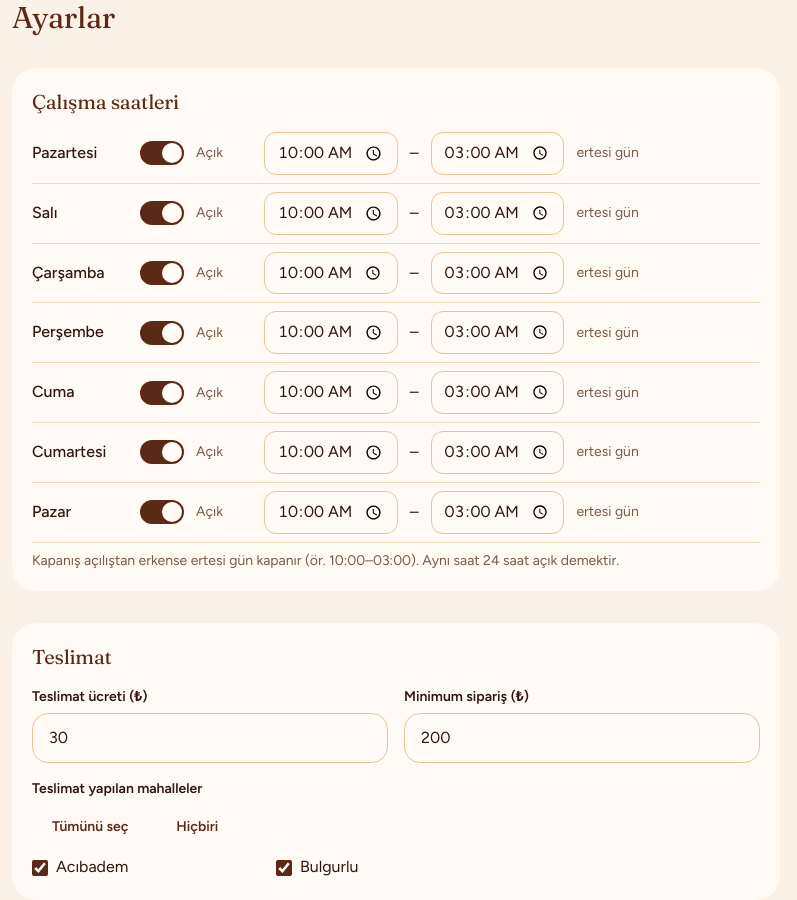
Scenario: AdminSettingsPage › saves hours and the delivery fee
This screenshot has width=797, height=900.
Click the switch named "Pazartesi açık". click: (162, 153)
box: top-left (140, 141), bottom-right (184, 165)
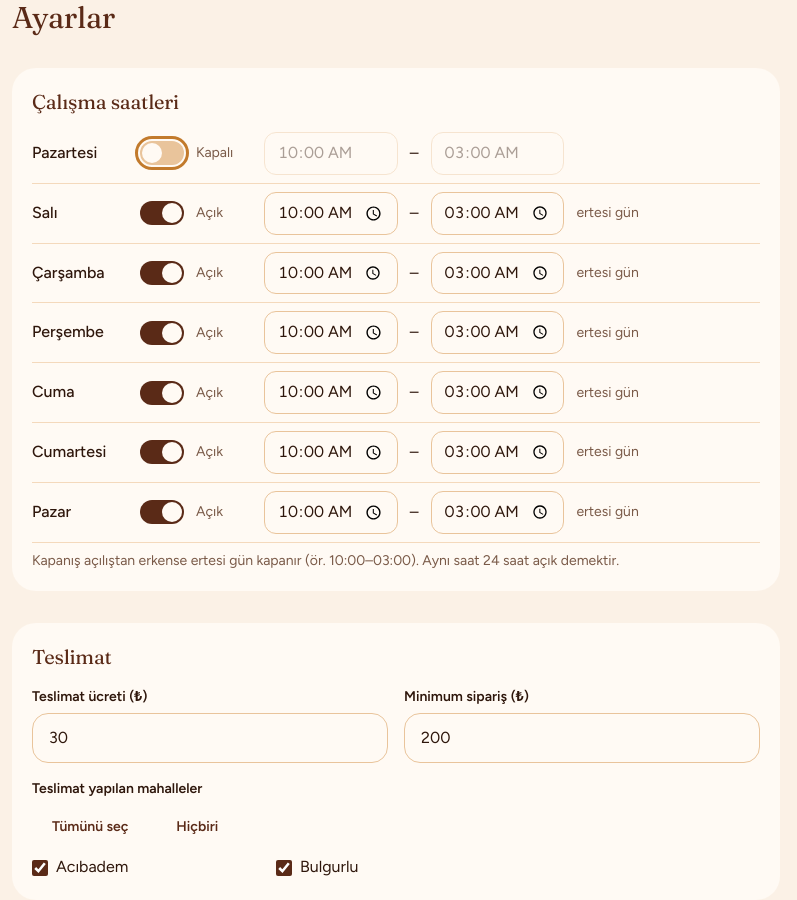
Replace the text in the field labelled "Teslimat ücreti (₺)" with "40". click: (210, 738)
box: top-left (32, 713), bottom-right (388, 763)
(page scrolled)
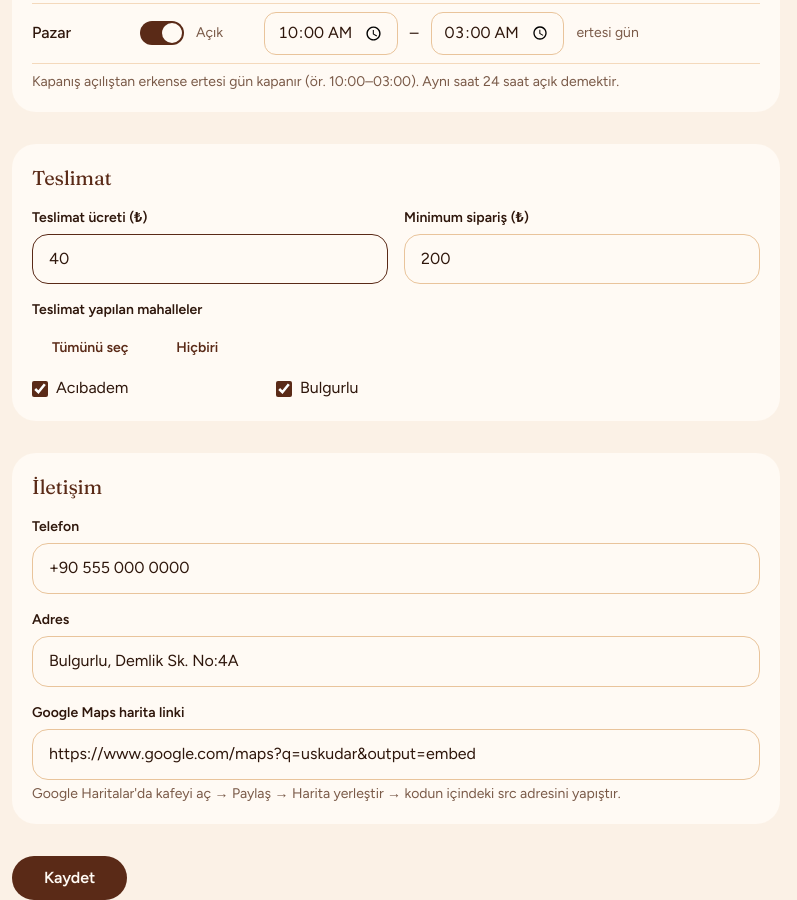
Click the button "Kaydet". click: (70, 878)
box: top-left (12, 856), bottom-right (127, 899)
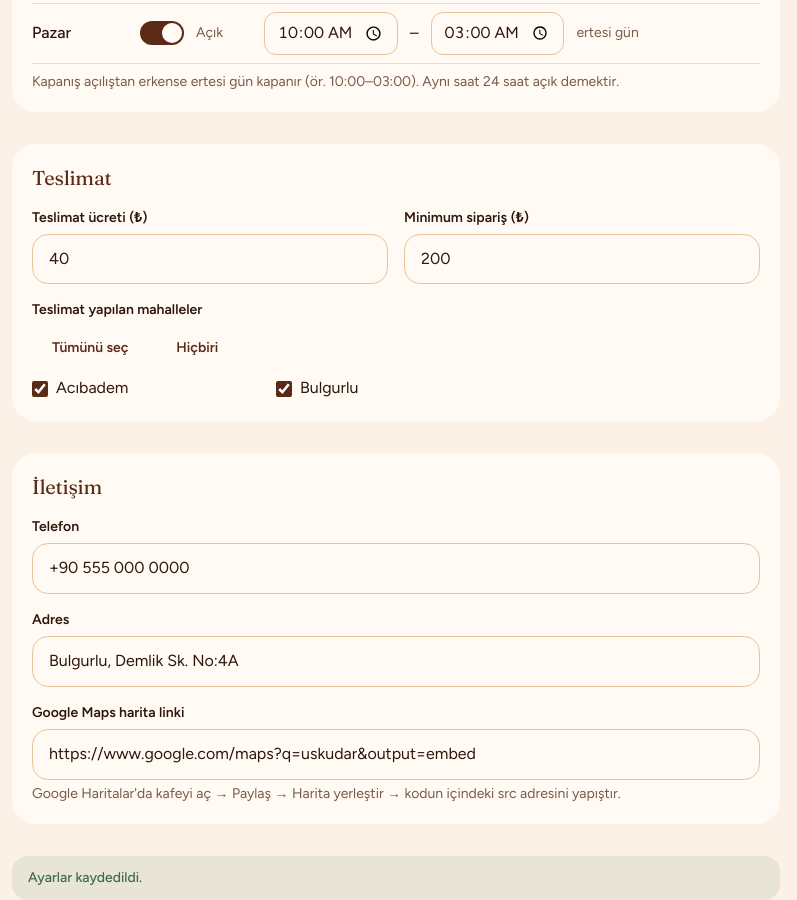
Result: the text "Ayarlar kaydedildi." is shown at top-left (12, 856), bottom-right (780, 899)
